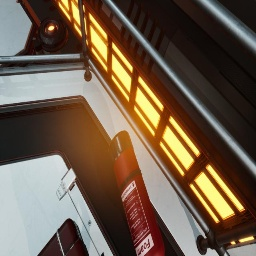FireExtinguisher ]: (108, 130, 165, 256)
FirstAidBox ,: (37, 218, 104, 256)
